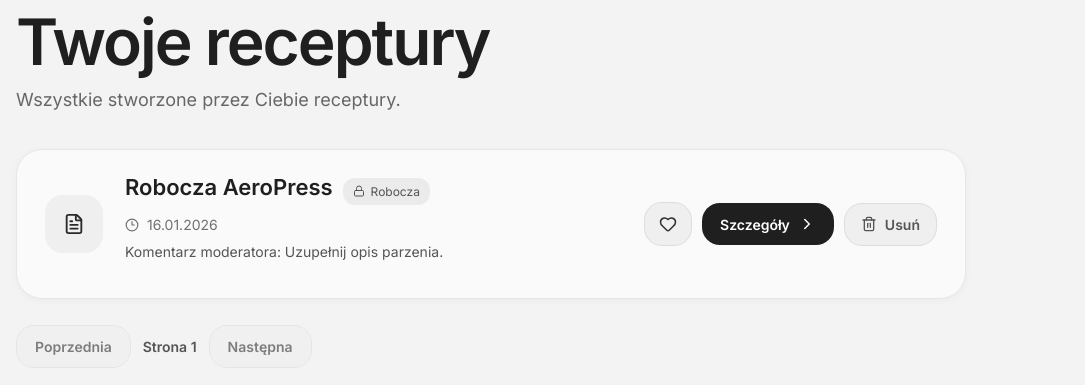
RecipesList › deletes my recipe after confirmation
expect the heading "Robocza AeroPress" is shown: met, box [125,174,333,200]
What coordinates should you click on to do the following:
click the button "Usuń"
I would click on:
 (890, 224)
Its box is [844,202,937,246].
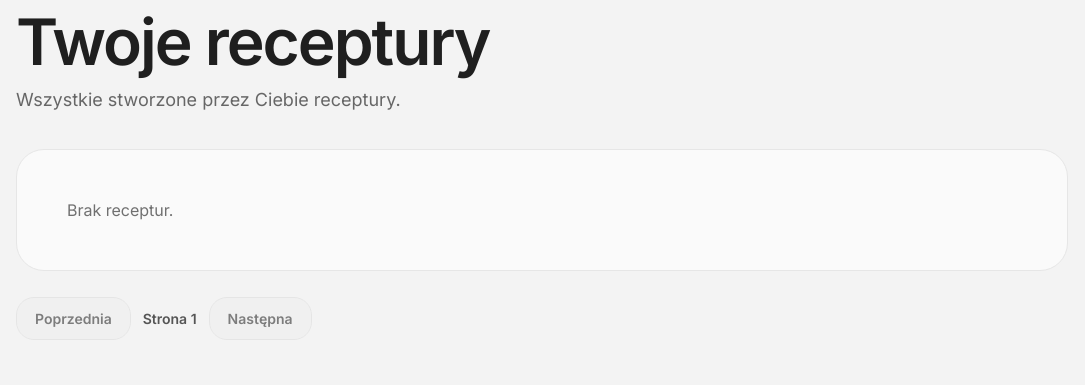
expect the heading "Robocza AeroPress" is gone: met
